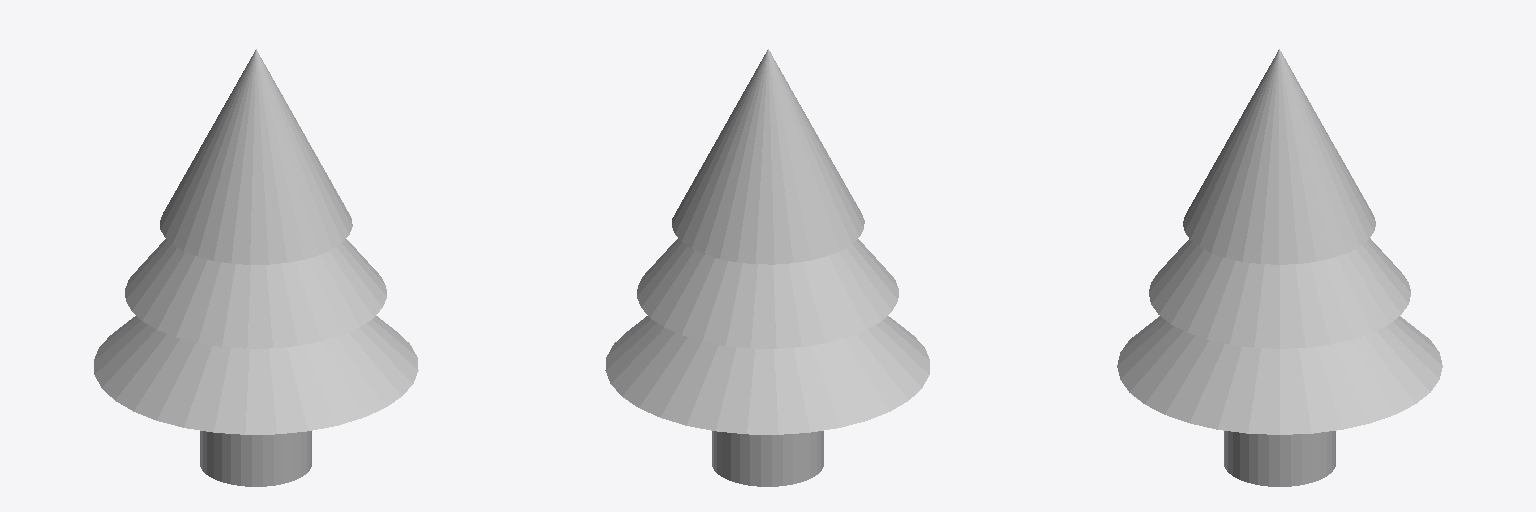
File: basicTree.obj
3 renders of one model, left to right at view 1: azimuth 30°, elevation 25°; view 2: azimuth 150°, elevation 25°; view 3: azimuth 270°, elevation 25°, orthographic.
Parts seen in each view (by area): view 1: Cylinder; view 2: Cylinder; view 3: Cylinder.
Boxes of the visible parts, x1=… form: Cylinder: x1=94, y1=49, x2=418, y2=486; Cylinder: x1=605, y1=49, x2=929, y2=486; Cylinder: x1=1117, y1=49, x2=1442, y2=486.
Size of the model in its own units: 2.48 by 3.48 by 2.48.